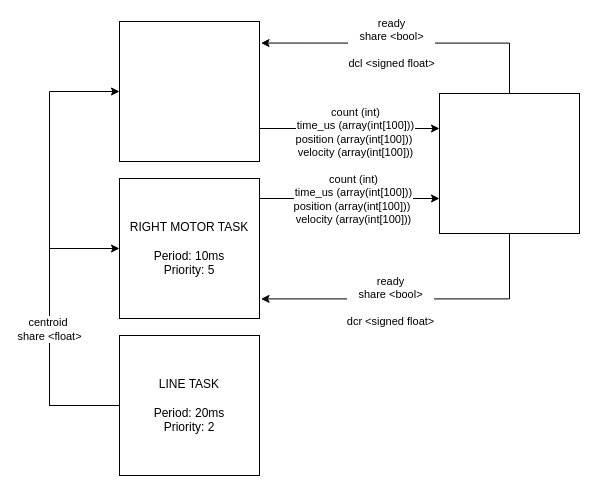
Image size: 597x493. Some labels were removed from this diagram. Here are the shapes that lost their labels. From the top down, the centre of each, then its label:
the point at 189,91: LEFT MOTOR TASK Period: 10ms Priority: 5
the point at 509,163: USER TASK Period: 0ms Priority: 1
